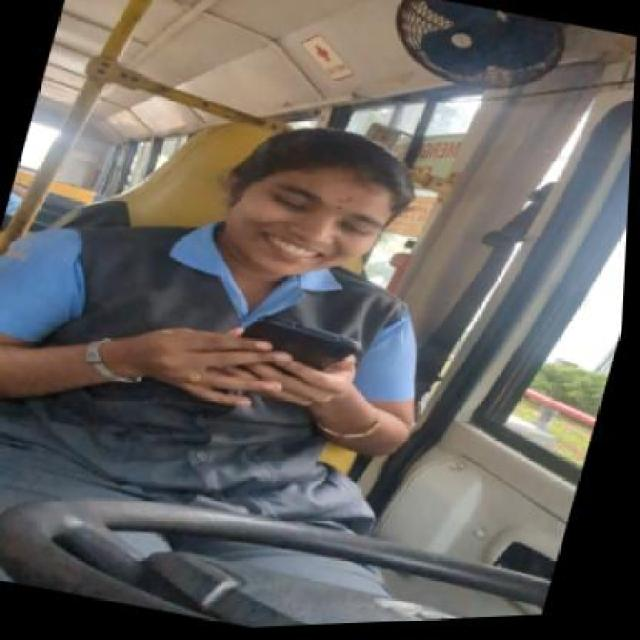Inattentive: (220, 126, 418, 272)
